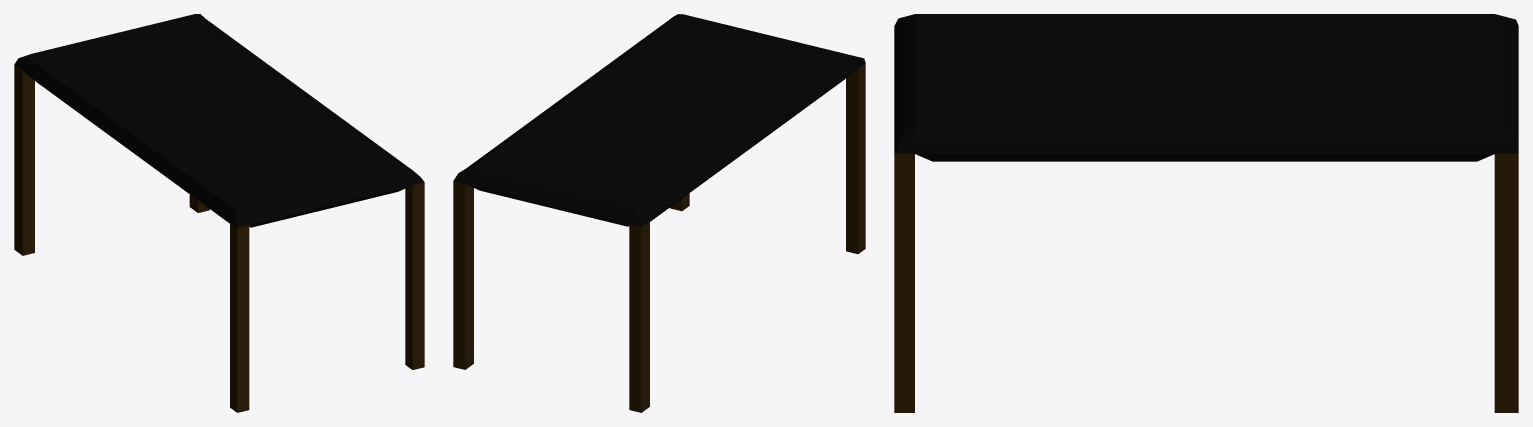
The model's file is Tabel.fbx.
3 views of the same model, side by side, from view 1: azimuth 30°, elevation 25°; view 2: azimuth 150°, elevation 25°; view 3: azimuth 270°, elevation 25° (orthographic). The views are drawn at different scales.
Parts seen in each view (by area): view 1: Cube; view 2: Cube; view 3: Cube.
Part boxes in pixels (bbox=[...]): Cube: bbox=[14, 14, 424, 412]; Cube: bbox=[453, 14, 865, 412]; Cube: bbox=[894, 14, 1518, 412].
Bounding box in the file's own units: 331 × 331 × 682.
